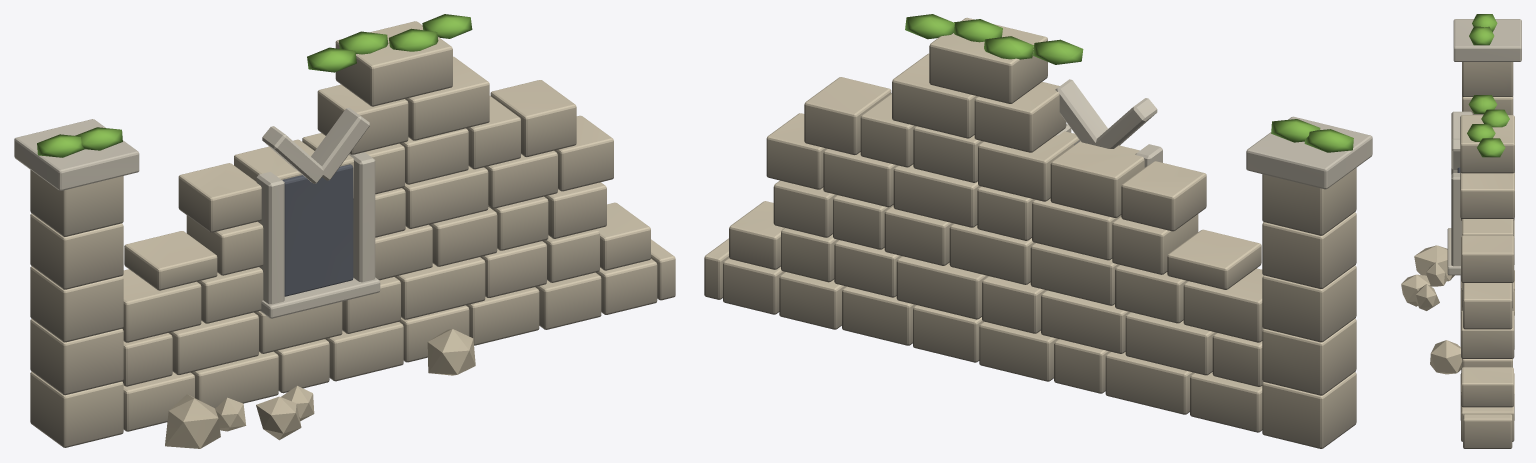
The model's file is ruin_wall.glb.
3 renders of one model, left to right at view 1: azimuth 30°, elevation 25°; view 2: azimuth 150°, elevation 25°; view 3: azimuth 270°, elevation 25°, orthographic. The views are drawn at different scales.
Parts seen in each view (by area): view 1: Wall; view 2: Wall; view 3: Wall.
Part boxes in pixels (bbox=[...]): Wall: bbox=[14, 14, 675, 448]; Wall: bbox=[704, 14, 1372, 448]; Wall: bbox=[1401, 14, 1521, 448].
Bounding box in the file's own units: 6.19 × 3.15 × 1.41.
